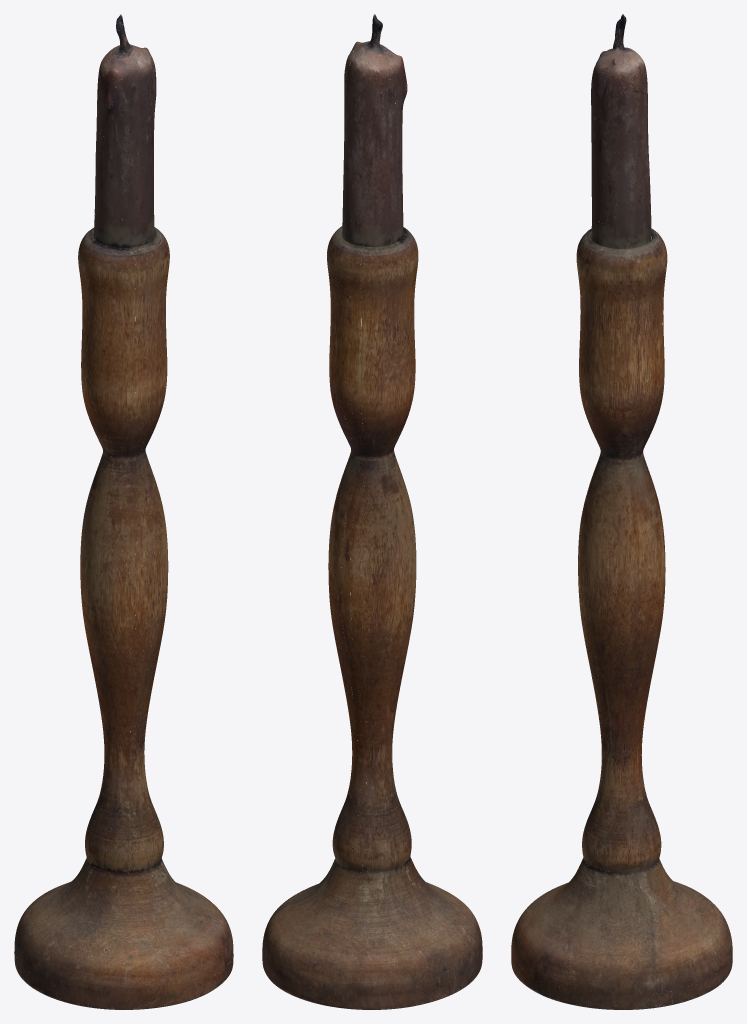
File: candlestick.glb
3 renders of one model, left to right at view 1: azimuth 30°, elevation 25°; view 2: azimuth 150°, elevation 25°; view 3: azimuth 270°, elevation 25°, orthographic.
Parts seen in each view (by area): view 1: wooden_candlestick.001; view 2: wooden_candlestick.001; view 3: wooden_candlestick.001.
Part boxes in pixels (bbox=[...]): wooden_candlestick.001: bbox=[14, 14, 233, 1009]; wooden_candlestick.001: bbox=[262, 14, 482, 1009]; wooden_candlestick.001: bbox=[511, 14, 732, 1009].
Bounding box in the file's own units: 2.25 × 10.81 × 2.28.
1 material, 1 textured.
